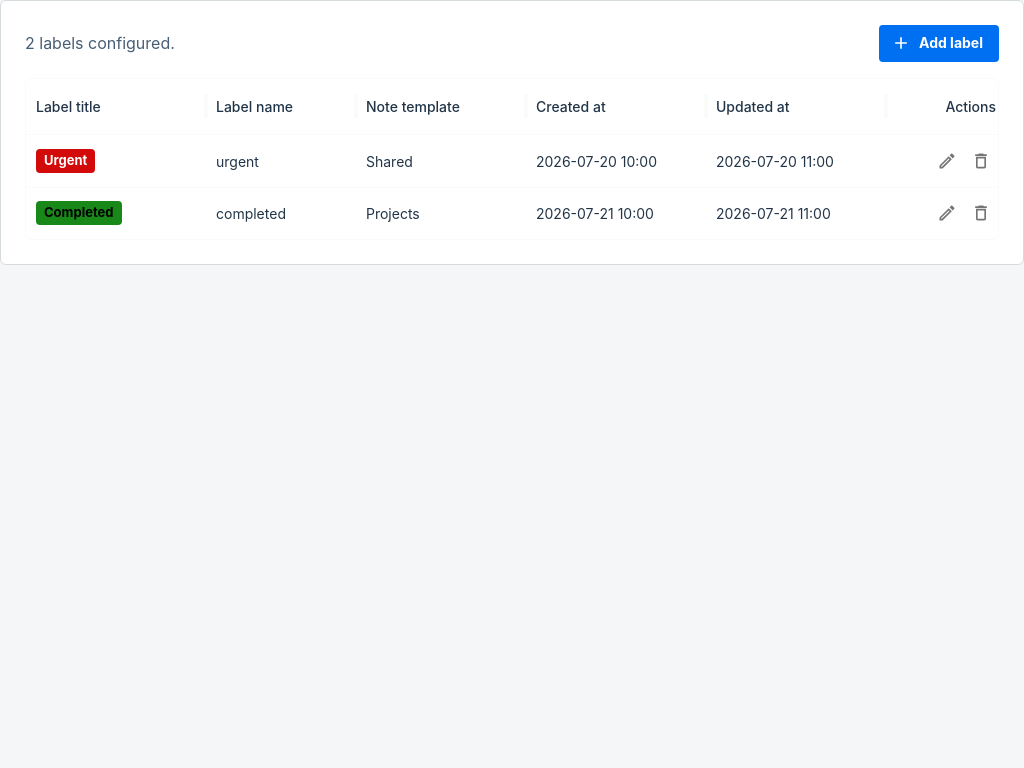
Test case: NoteLabelsSection › shows an error when label deletion fails
Step 1. Click the button named "Delete label" in the row of "Shared" → (981, 161), box x1=966 y1=146 x2=996 y2=176
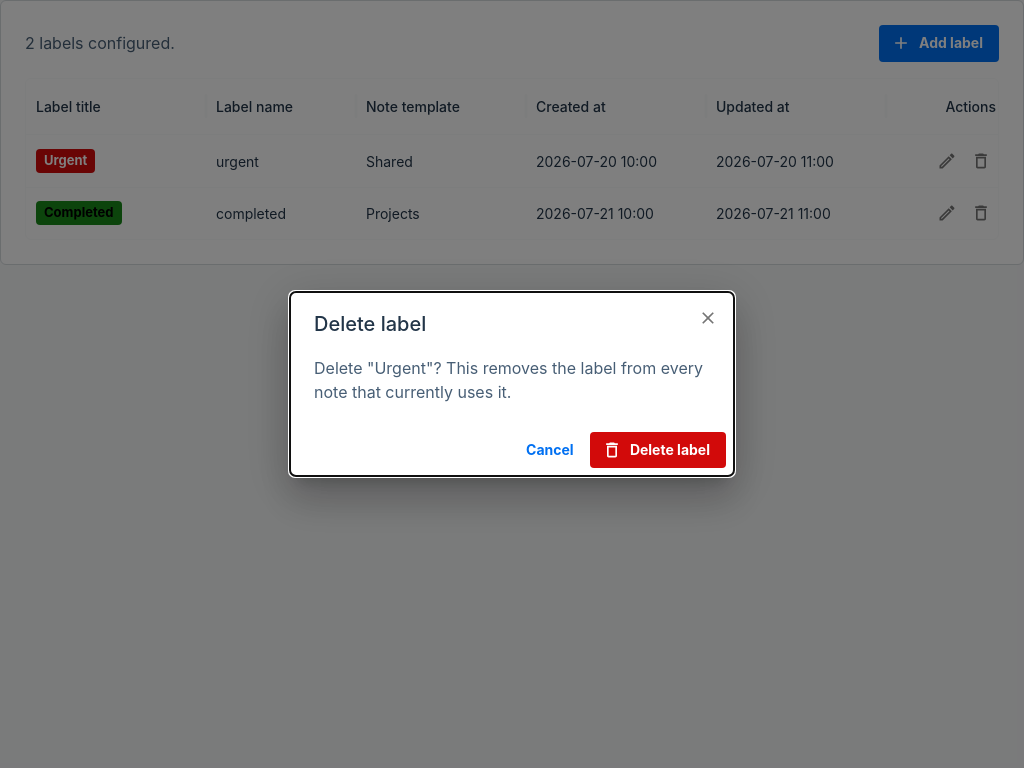
Step 2. Click the button "Delete label" → (658, 450), box x1=590 y1=432 x2=726 y2=468
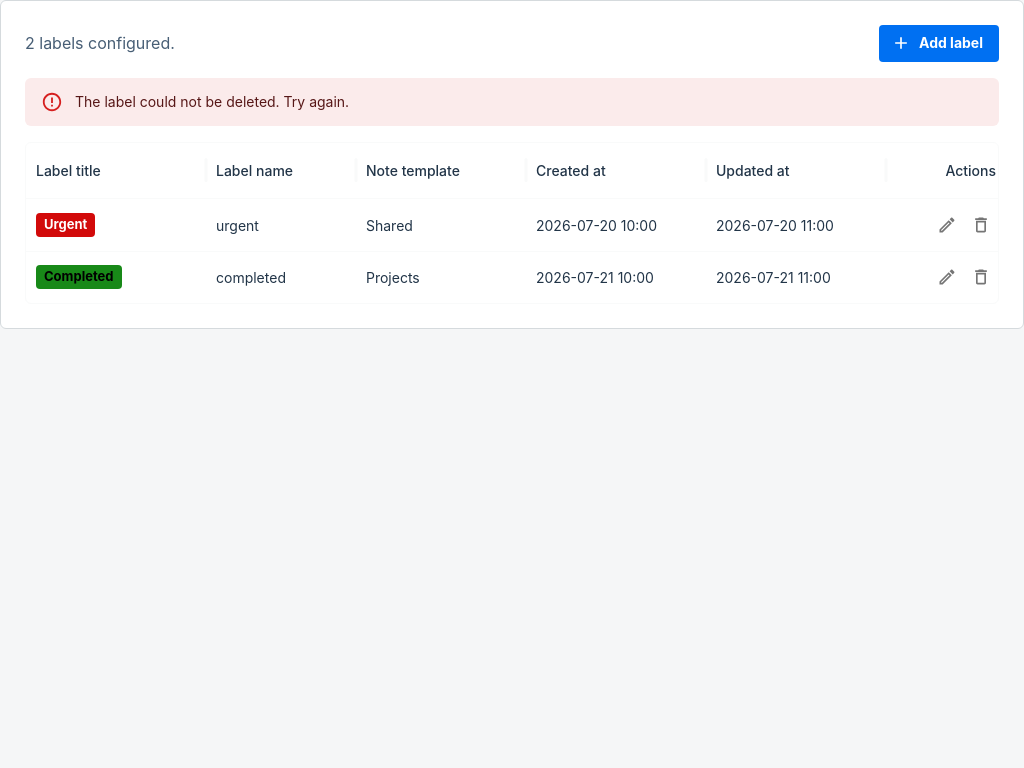
Expected: the text "The label could not be deleted. Try again." is shown, x1=75 y1=92 x2=349 y2=110
